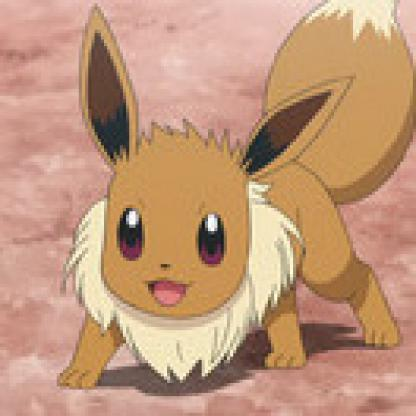Eevee: (26, 1, 414, 397)
